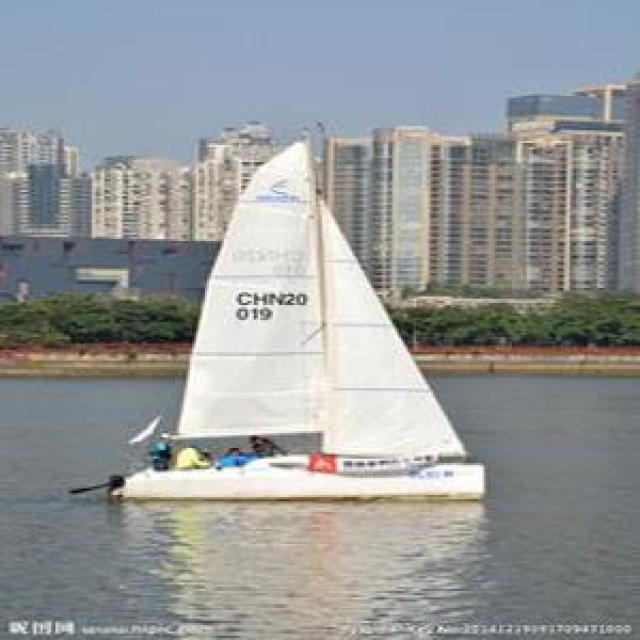sailboat: (110, 126, 492, 508)
